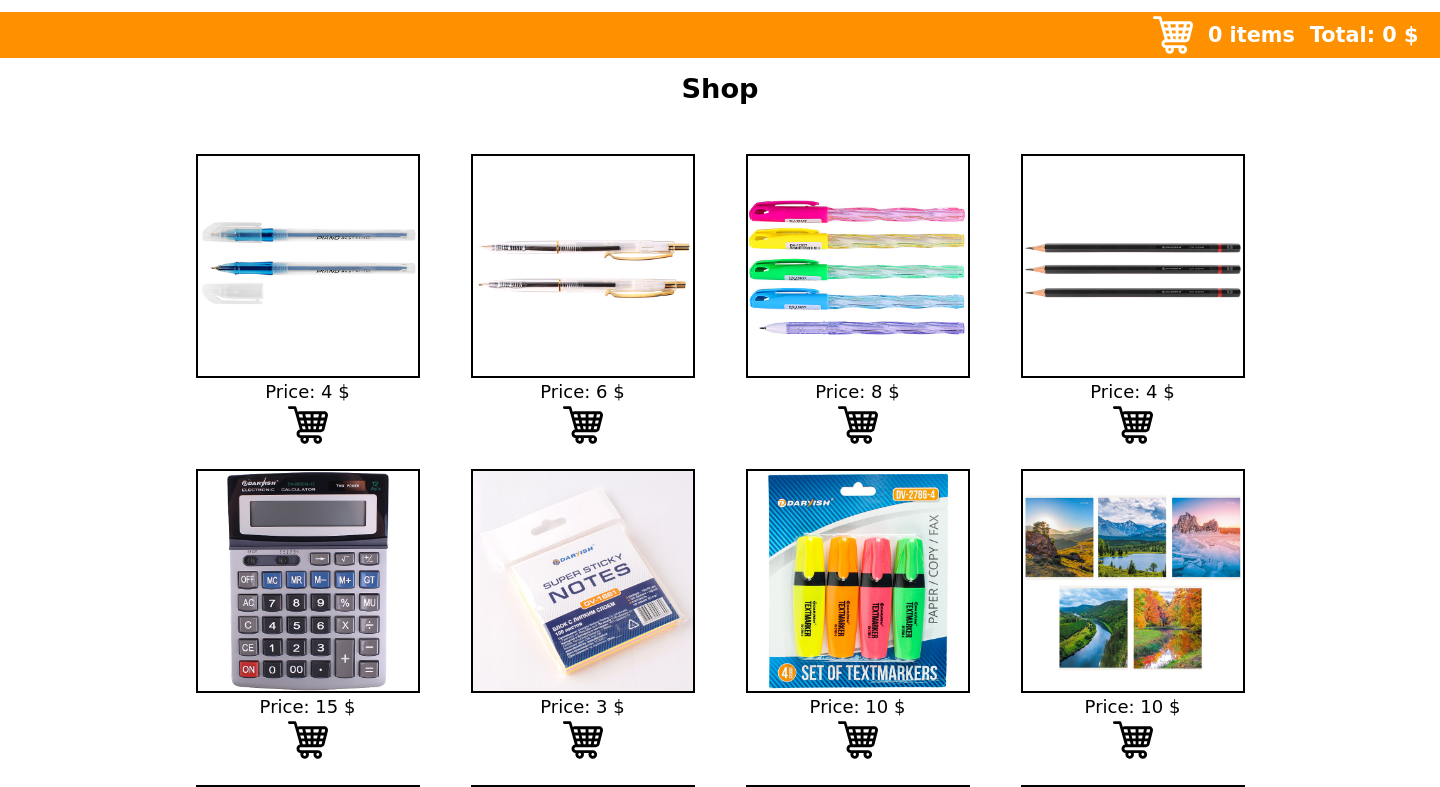
Test: Shop component › changes cart to input if you click on cart
This screenshot has width=1440, height=787.
What coordinates should you click on to do the following:
click the picture with test id "cart-0"
I would click on:
 (308, 425)
Its box is [288,405,328,445].
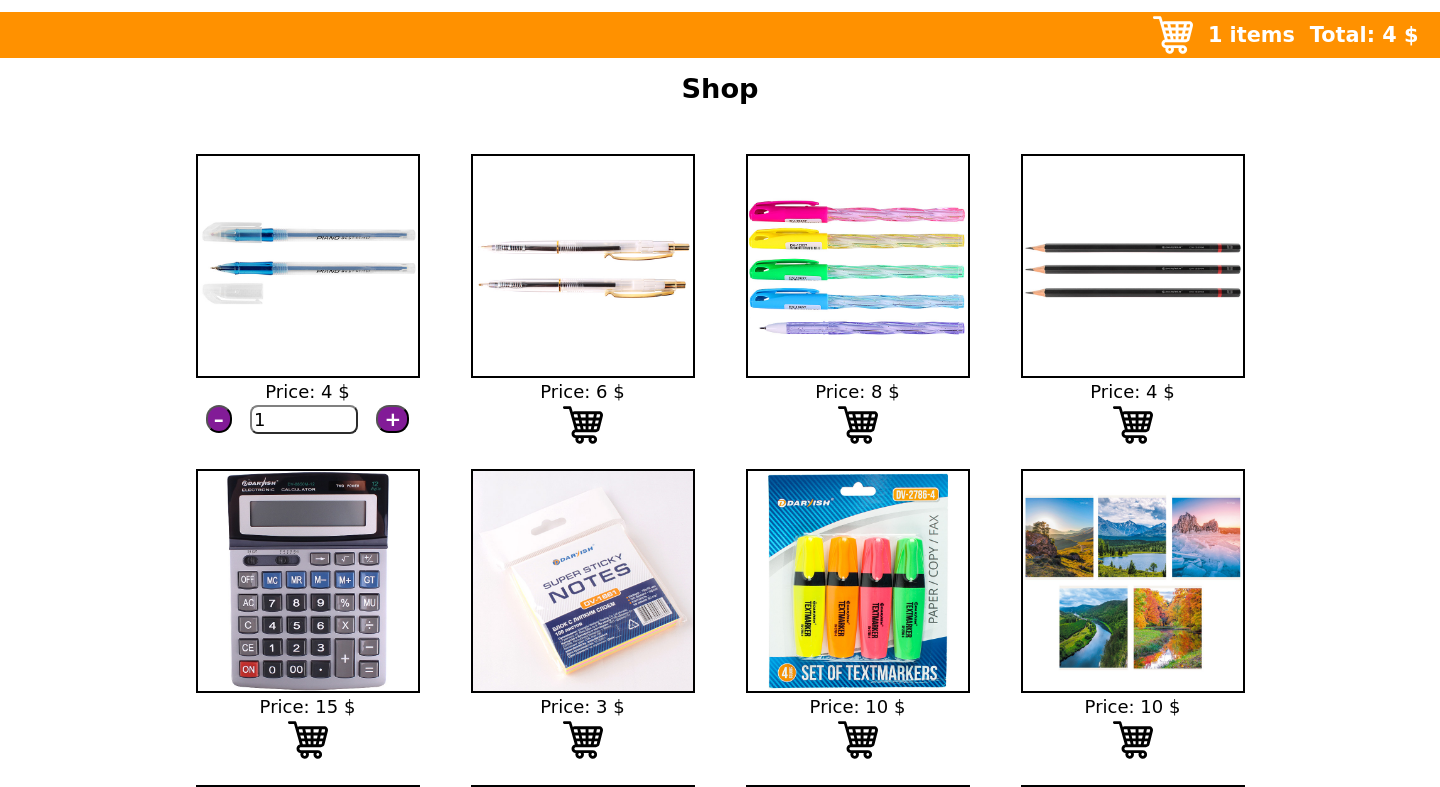
Now the picture with test id "cart-0" is gone
Now the field with test id "input-0" holds "1", box [250,405,358,434]
